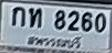letters: (28, 7, 44, 29), (11, 6, 26, 29), (67, 10, 81, 33), (53, 8, 66, 31), (94, 12, 107, 34), (81, 11, 93, 33)
province: (27, 35, 82, 51)
